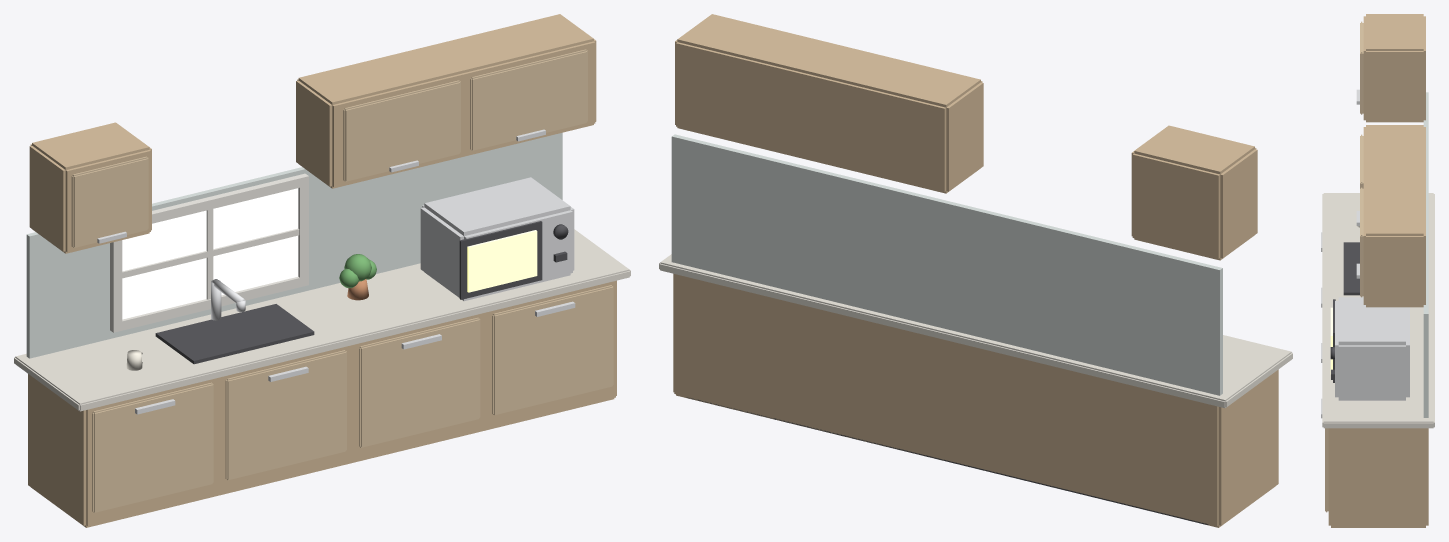
File: hero_kitchen.glb
3 renders of one model, left to right at view 1: azimuth 30°, elevation 25°; view 2: azimuth 150°, elevation 25°; view 3: azimuth 270°, elevation 25°, orthographic. The views are drawn at different scales.
Parts seen in each view (by area): view 1: Backsplash, Counter, CabRun, UpCabR, WinPane, Door0, Door1, Door2, Door3, MicroBody, UpDoorR0, UpDoorR1 (+10 smaller); view 2: CabRun, Backsplash, UpCabR, UpCabL, Counter, Plinth; view 3: UpCabR, Counter, CabRun, MicroBody, UpCabL, Backsplash, Sink, UpDoorR1, UpDoorL, Door3, UpDoorR0, MicroDoor.
Boxes of the visible parts, left/top/right/bottom form: Backsplash: left=26, top=132, right=562, bottom=358; Counter: left=14, top=229, right=630, bottom=411; CabRun: left=28, top=280, right=616, bottom=527; UpCabR: left=296, top=14, right=596, bottom=188; WinPane: left=122, top=188, right=298, bottom=319; Door0: left=92, top=382, right=213, bottom=512; Door1: left=225, top=350, right=346, bottom=480; Door2: left=359, top=317, right=480, bottom=447; Door3: left=492, top=285, right=613, bottom=415; MicroBody: left=420, top=177, right=574, bottom=301; UpDoorR0: left=343, top=80, right=460, bottom=181; UpDoorR1: left=470, top=49, right=587, bottom=150; CabRun: left=673, top=273, right=1278, bottom=527; Backsplash: left=671, top=134, right=1222, bottom=395; UpCabR: left=675, top=14, right=983, bottom=193; UpCabL: left=1131, top=125, right=1257, bottom=260; Counter: left=659, top=254, right=1292, bottom=408; Plinth: left=686, top=397, right=1208, bottom=524; UpCabR: left=1363, top=125, right=1425, bottom=307; Counter: left=1322, top=193, right=1434, bottom=428; CabRun: left=1328, top=428, right=1428, bottom=527; MicroBody: left=1335, top=297, right=1409, bottom=400; UpCabL: left=1363, top=14, right=1425, bottom=122; Backsplash: left=1423, top=92, right=1428, bottom=417; Sink: left=1343, top=242, right=1359, bottom=295; UpDoorR1: left=1360, top=187, right=1363, bottom=297; UpDoorL: left=1360, top=21, right=1363, bottom=114; Door3: left=1325, top=428, right=1328, bottom=512; UpDoorR0: left=1360, top=134, right=1363, bottom=188; MicroDoor: left=1330, top=307, right=1332, bottom=374.
Bounding box in the file's own units: 4.35 × 2.6 × 0.91.
